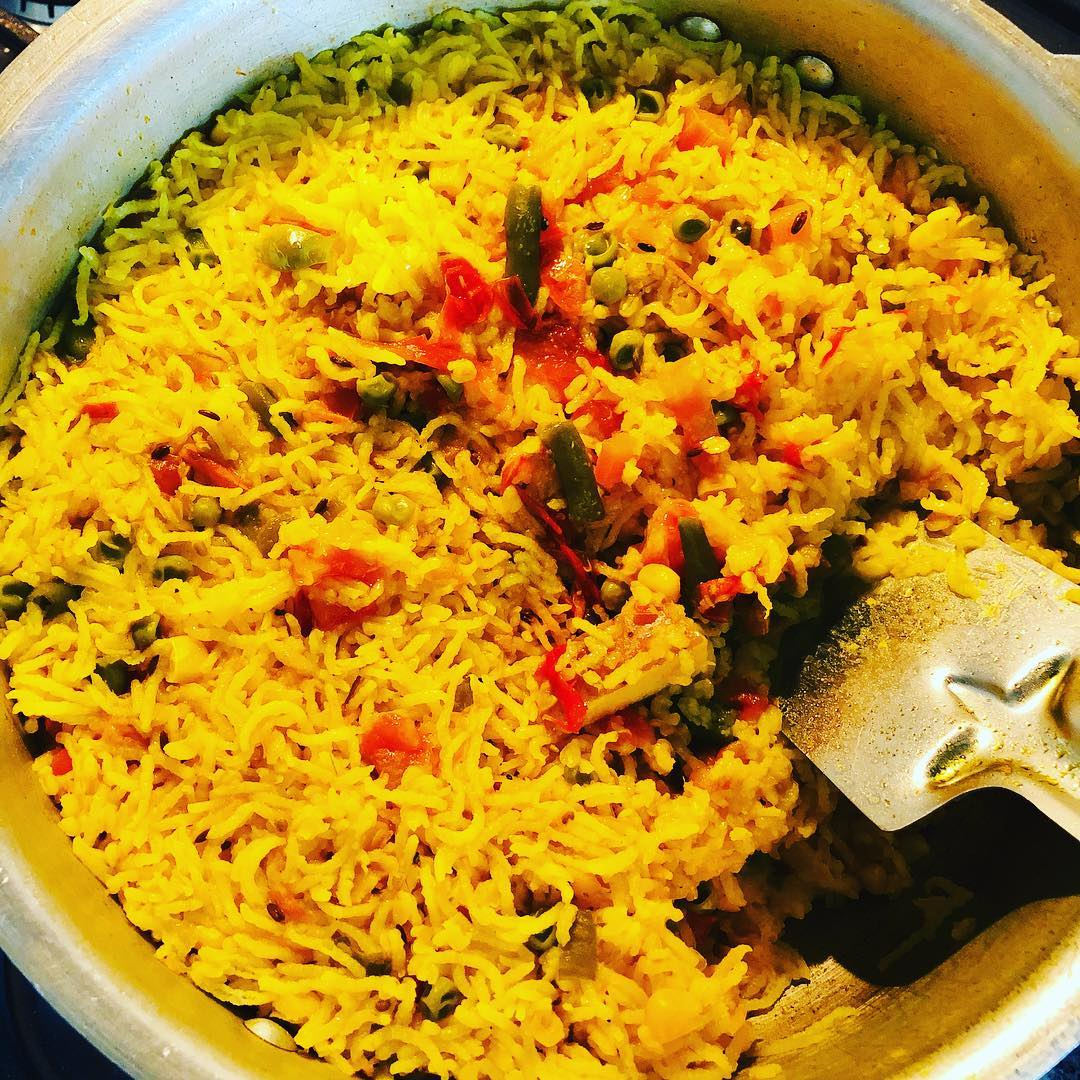khichuri: (26, 38, 1022, 1046)
